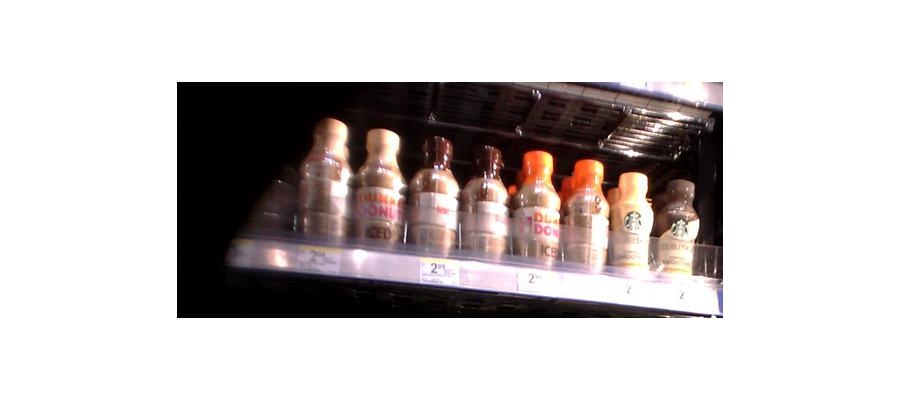bottle: (295, 111, 349, 242), (406, 133, 458, 257), (351, 125, 403, 245), (458, 141, 509, 260), (513, 145, 562, 266), (560, 157, 607, 272), (610, 167, 652, 277), (654, 175, 698, 278)
